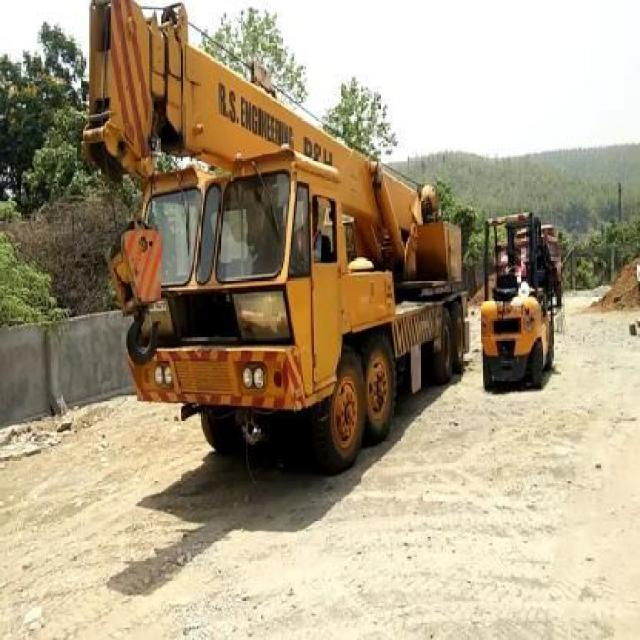Mobile Crane: (86, 0, 468, 466)
